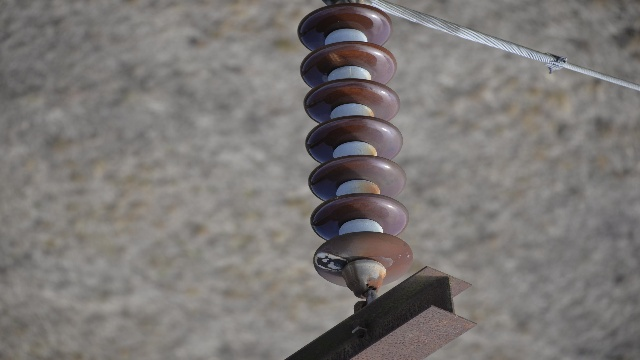insulator_unspecified: (296, 4, 412, 289)
pollution_flashover_local: (312, 248, 354, 276), (330, 51, 348, 68)
